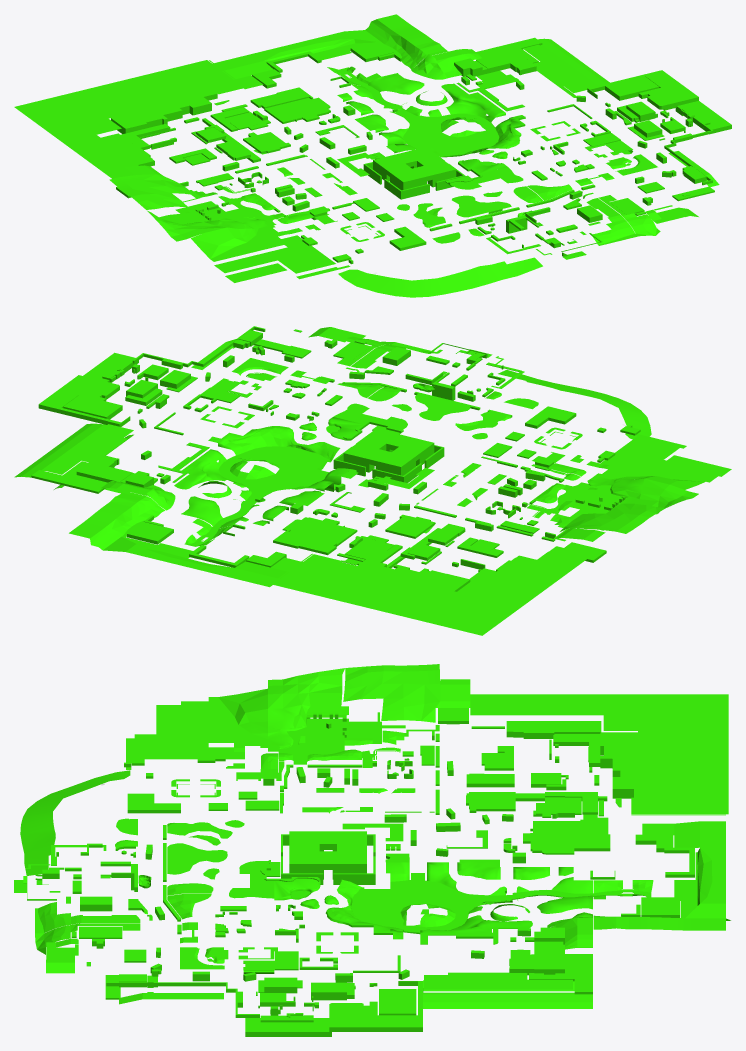
Rendered from NaviCol.fbx.
3 renders of one model, top to bottom at view 1: azimuth 30°, elevation 25°; view 2: azimuth 150°, elevation 25°; view 3: azimuth 270°, elevation 25°, orthographic. The views are drawn at different scales.
Visible parts, largest first — view 1: Group_001, Group_029, Group_087, Bg_Pond_STR_Base_NaviCol, Group_020, Bg_Sandy_Beach_STR_Base_NaviCol, Group_091, Group_118, Group_039, Group_108, Group_002, Group_162 (+20 smaller); view 2: Group_001, Group_087, Group_029, Bg_Pond_STR_Base_NaviCol, Group_020, Group_091, Group_108, Group_039, Group_118, Group_162, Bg_Archery_STR_Base_NaviCol, Group_002 (+19 smaller); view 3: Group_001, Group_020, Group_029, Group_087, Bg_Pond_STR_Base_NaviCol, Group_108, Group_091, Bg_Archery_STR_Base_NaviCol, Group_118, Group_039, Group_162, Bg_Sandy_Beach_STR_Base_NaviCol (+26 smaller).
Boxes of the visible parts, left/top/right/bottom form: Group_001: left=14, top=60, right=244, bottom=178; Group_029: left=191, top=206, right=384, bottom=282; Group_087: left=212, top=14, right=448, bottom=89; Bg_Pond_STR_Base_NaviCol: left=337, top=54, right=517, bottom=156; Group_020: left=109, top=174, right=289, bottom=241; Bg_Sandy_Beach_STR_Base_NaviCol: left=338, top=257, right=542, bottom=297; Group_091: left=363, top=85, right=499, bottom=157; Group_118: left=587, top=70, right=731, bottom=134; Group_039: left=397, top=168, right=543, bottom=227; Group_108: left=523, top=38, right=609, bottom=93; Group_002: left=111, top=90, right=211, bottom=134; Group_162: left=373, top=147, right=456, bottom=186; Group_001: left=273, top=528, right=605, bottom=635; Group_087: left=69, top=491, right=302, bottom=587; Group_029: left=532, top=427, right=731, bottom=489; Bg_Pond_STR_Base_NaviCol: left=146, top=438, right=350, bottom=528; Group_020: left=528, top=473, right=698, bottom=541; Group_091: left=212, top=446, right=331, bottom=528; Group_108: left=14, top=423, right=133, bottom=477; Group_039: left=340, top=386, right=510, bottom=439; Group_118: left=38, top=352, right=138, bottom=426; Group_162: left=343, top=429, right=434, bottom=471; Bg_Archery_STR_Base_NaviCol: left=527, top=477, right=644, bottom=530; Group_002: left=347, top=559, right=470, bottom=591; Group_001: left=440, top=679, right=728, bottom=814; Group_020: left=268, top=664, right=440, bottom=761; Group_029: left=126, top=688, right=278, bottom=797; Group_087: left=593, top=821, right=730, bottom=930; Bg_Pond_STR_Base_NaviCol: left=386, top=859, right=592, bottom=934; Group_108: left=423, top=972, right=592, bottom=1008; Group_091: left=351, top=880, right=592, bottom=932; Bg_Archery_STR_Base_NaviCol: left=268, top=705, right=381, bottom=767; Group_118: left=245, top=981, right=423, bottom=1036; Group_039: left=167, top=820, right=274, bottom=895; Group_162: left=289, top=831, right=366, bottom=869; Bg_Sandy_Beach_STR_Base_NaviCol: left=20, top=770, right=130, bottom=875.
Size of the model in its own units: 373 by 24.32 by 333.
